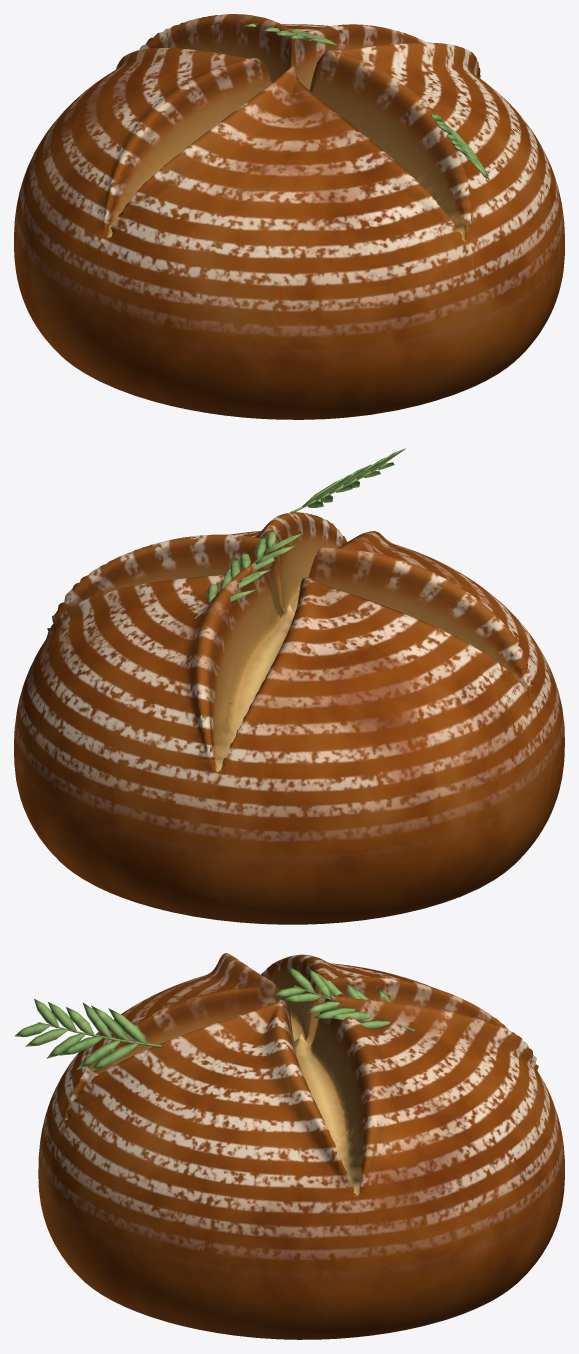
File: campagne--rosemary-sprig.glb
3 renders of one model, top to bottom at view 1: azimuth 30°, elevation 25°; view 2: azimuth 150°, elevation 25°; view 3: azimuth 270°, elevation 25°, orthographic. The views are drawn at different scales.
Parts seen in each view (by area): view 1: campagne_rosemary-sprig; view 2: campagne_rosemary-sprig; view 3: campagne_rosemary-sprig.
Boxes of the visible parts, x1,y1,x2,y2 form: campagne_rosemary-sprig: [14, 14, 564, 419]; campagne_rosemary-sprig: [14, 448, 564, 924]; campagne_rosemary-sprig: [14, 953, 564, 1339].
Bounding box in the file's own units: 0.9987 × 0.5688 × 1.05.
1 material, 1 textured.
